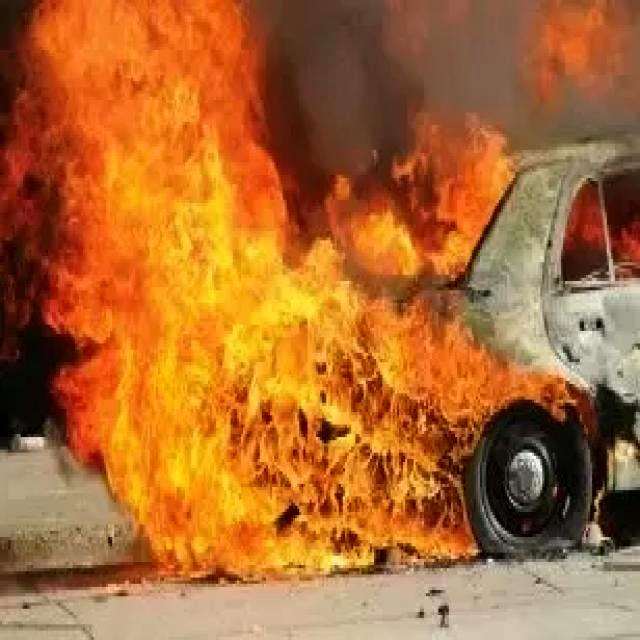fire: (33, 0, 519, 562)
